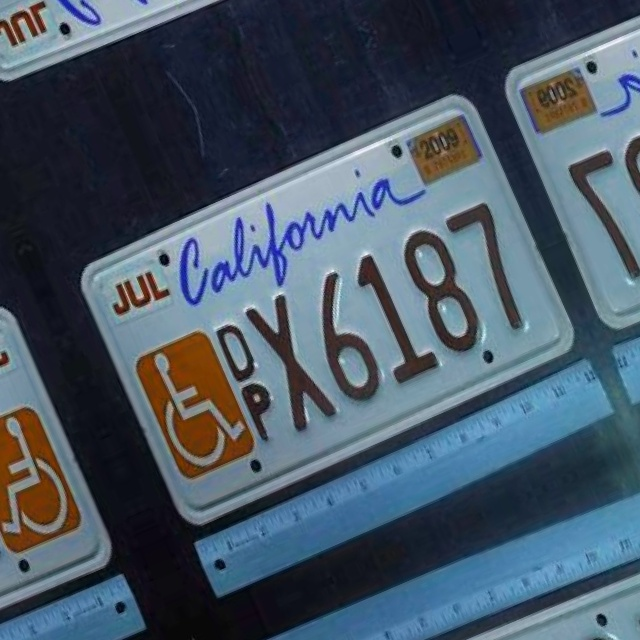ISA: (139, 331, 257, 479), (0, 408, 78, 556)
